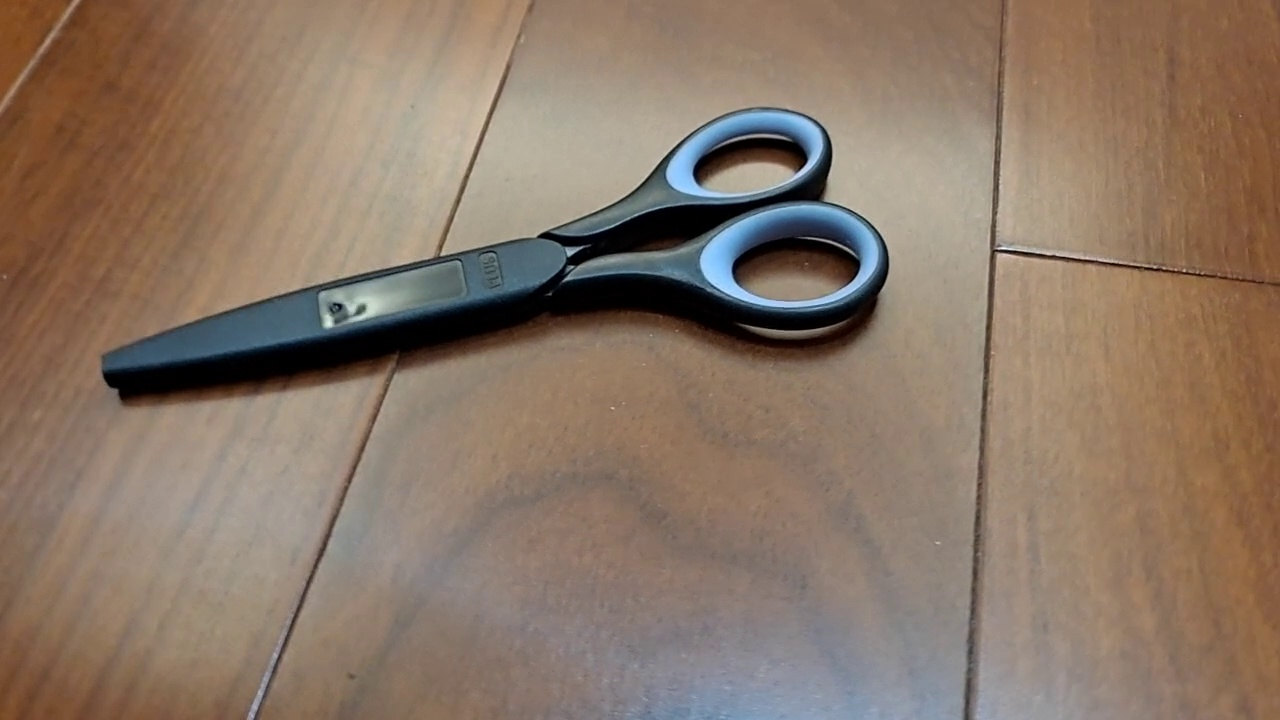scissors: (100, 104, 890, 403)
